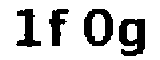0: (84, 7, 114, 49)
1: (14, 8, 44, 51)
f: (49, 6, 70, 49)
g: (119, 16, 148, 59)
